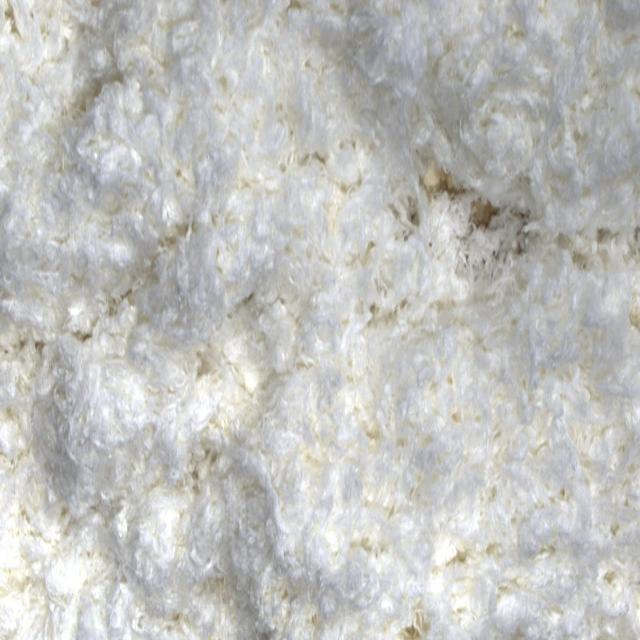dust: (422, 175, 512, 239)
